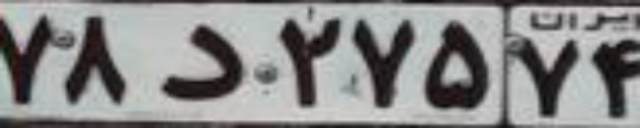2: (277, 16, 340, 106)
4: (587, 38, 636, 119)
5: (423, 20, 486, 109)
7: (350, 17, 417, 108), (511, 37, 582, 115), (0, 11, 52, 106)
8: (60, 14, 132, 106)
dal: (156, 23, 245, 100)
